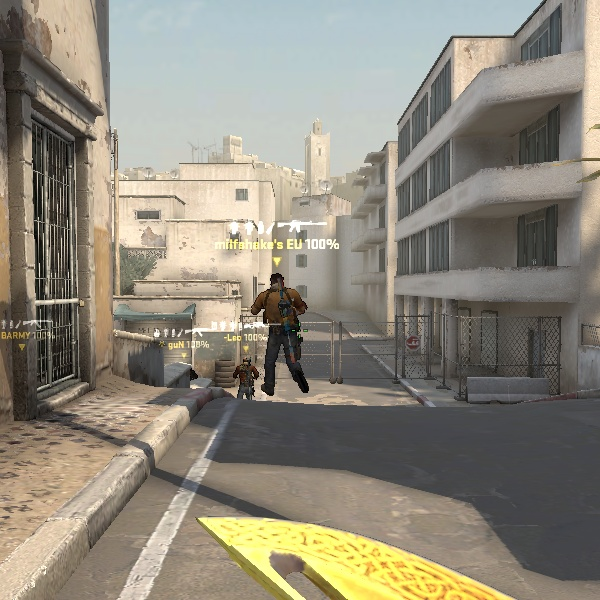t_body: (239, 268, 318, 402)
